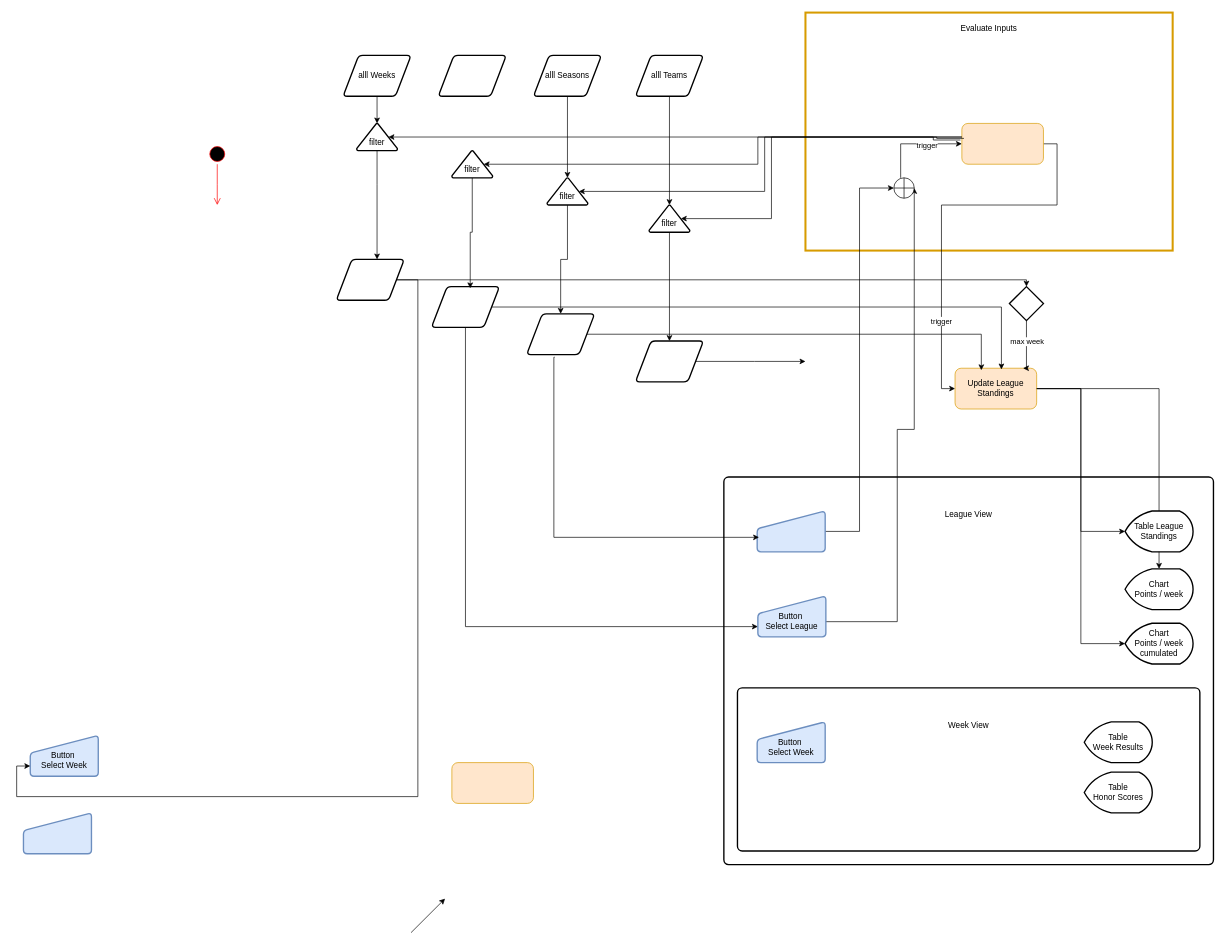
Image size: 1226x950. Some labels were removed from this diagram. Here are the shapes that lost their labels. From the top down, the centre of each, then its label:
the point at 472,75: alll Leagues
the point at 1002,143: Update Buttons
the point at 370,279: avialable Weeks
the point at 465,307: avaiable Leagues
the point at 1026,303: max
the point at 560,334: available Seasons
the point at 669,361: available Teams
the point at 791,531: Button Select Season
the point at 492,782: UdapteTable LeagueHistory
the point at 57,833: Button Select Team
